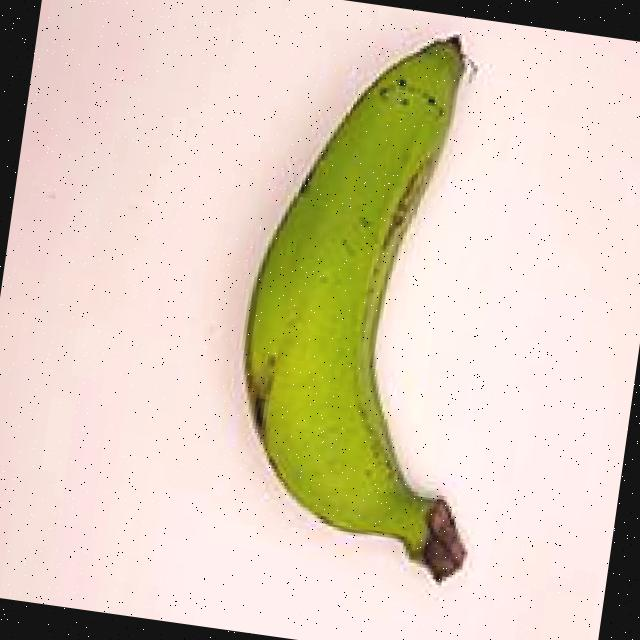Raw: (172, 0, 569, 619)
